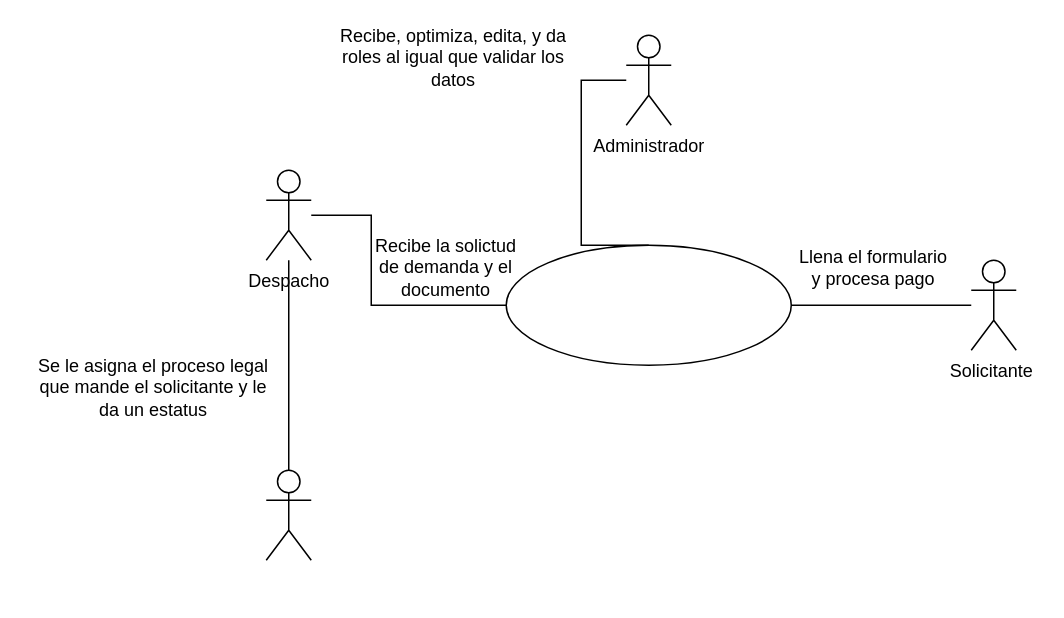
The diagram is 1064 pixels wide and 618 high, and some of its shapes have lost their labels. The centre of each missing label's shape, as x and y in pixels:
"Abogado" goes at [288,514].
"Software para automatizar las demandas de clientes" goes at [648,304].
